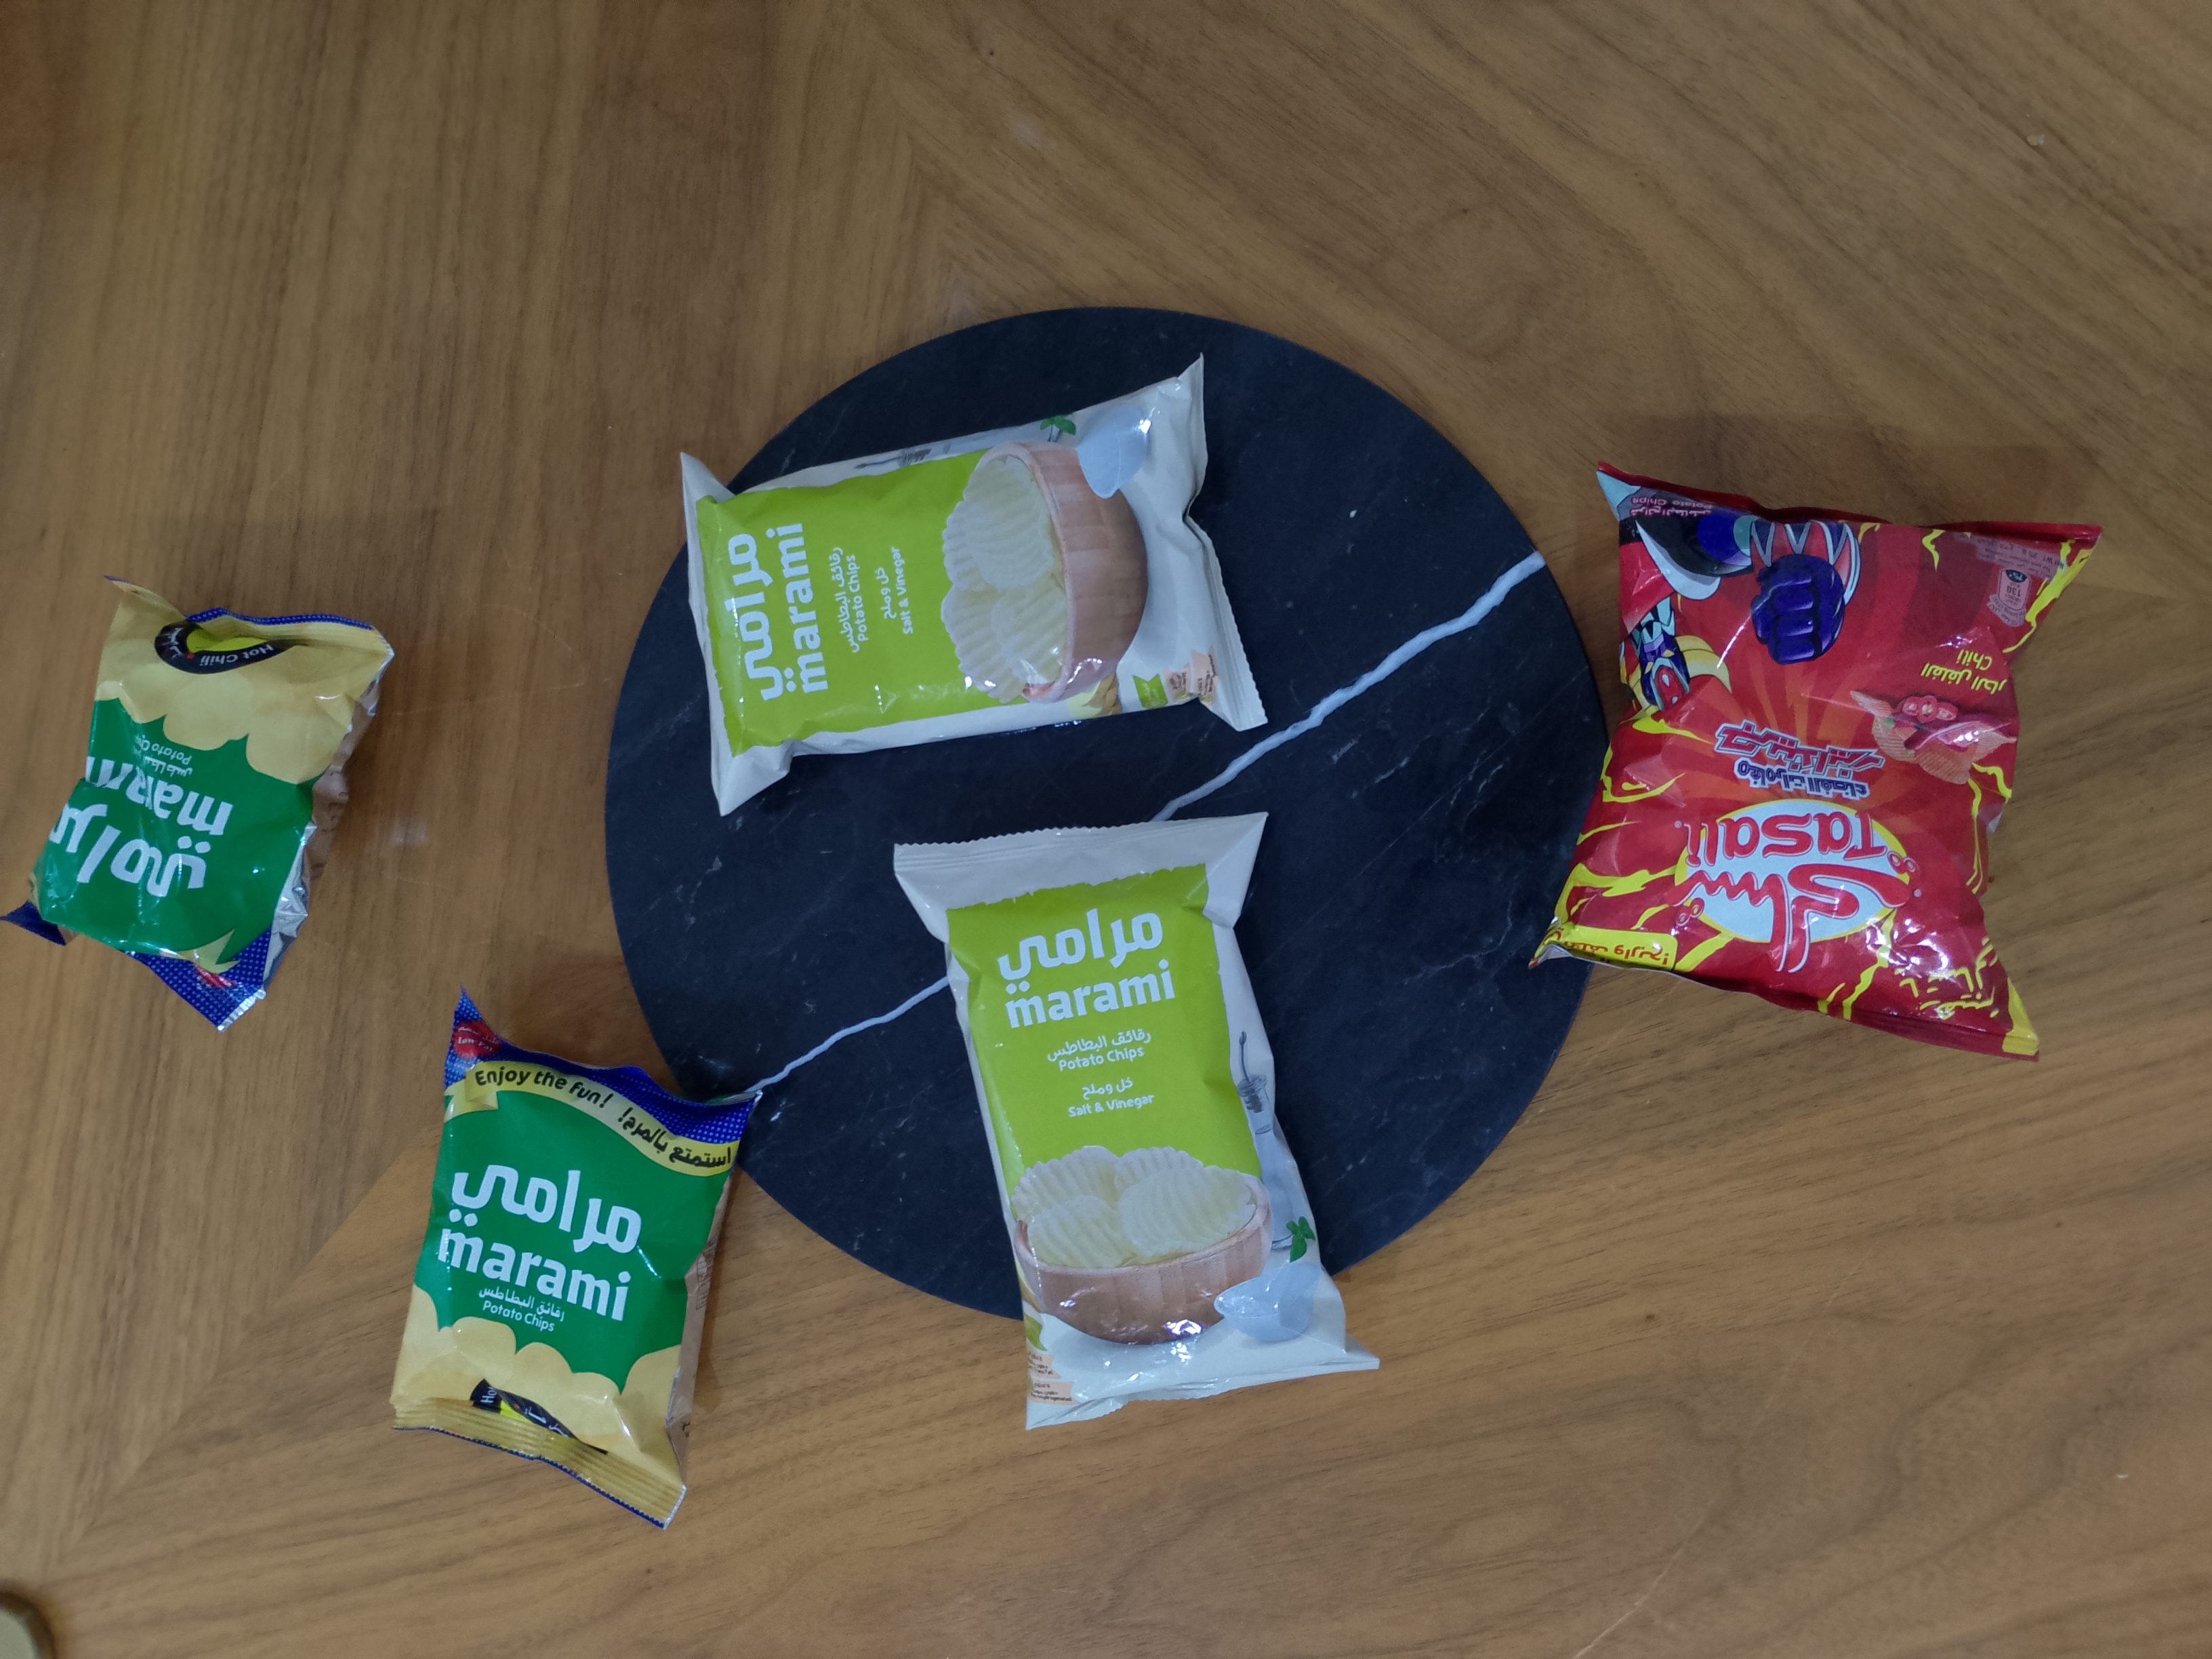marami_hot_chili: (387, 979, 764, 1532), (0, 573, 398, 1033)
marami_salt_&_vinegar: (893, 811, 1381, 1433), (678, 349, 1270, 818)
tasali_hot_chili: (1526, 457, 2106, 1064)
